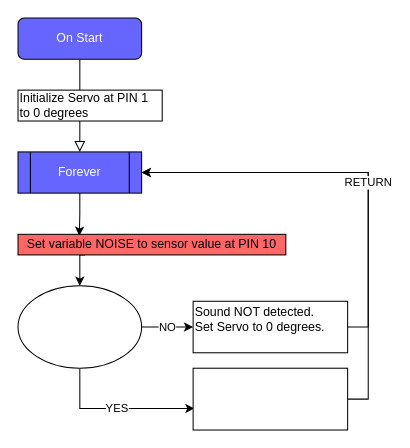
Some shapes in this 410 by 448 pixel diagram are drawn without their labels. Here are the shapes that lost their labels. From the top down, the centre of each, then its label:
At [79,326]: "Is NOISE < 50?".
At [270,398]: "Sound detected. Set Servo to 100 degrees. Wait 2 Seconds".
